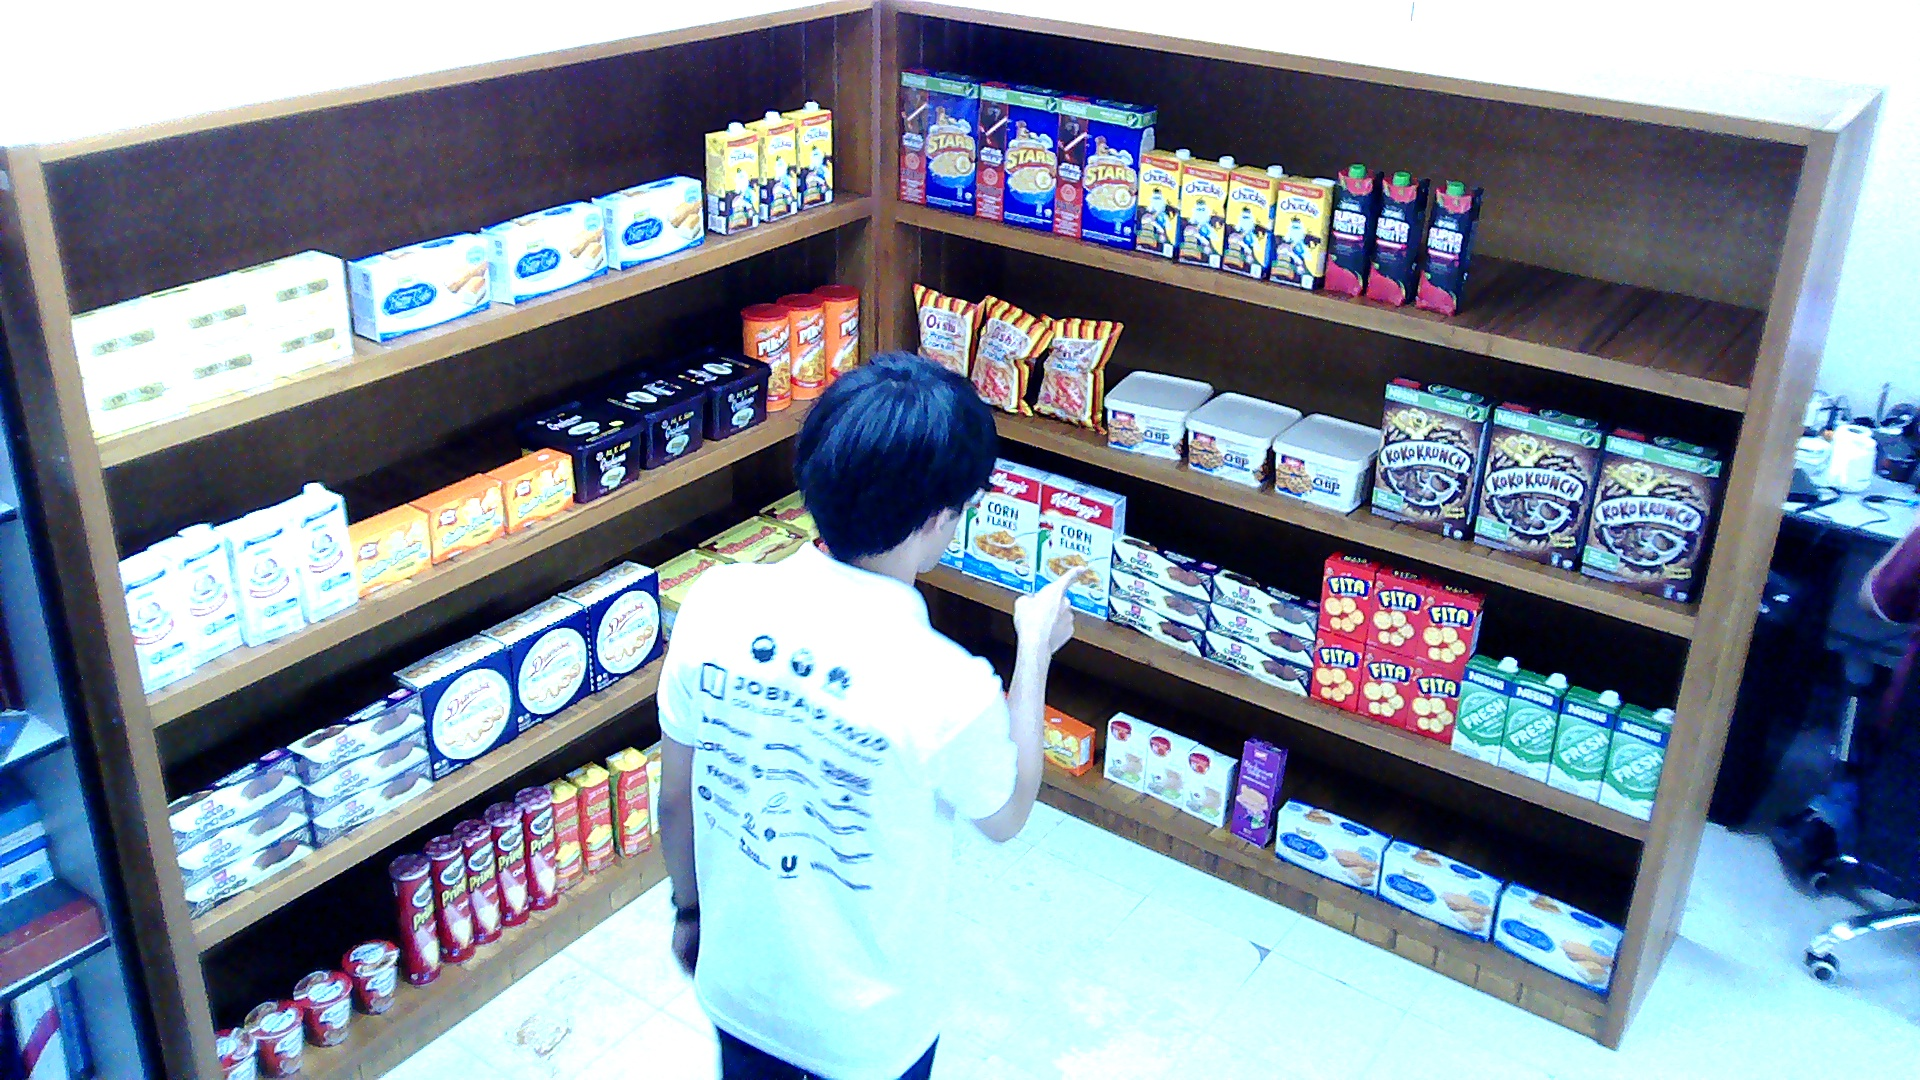Bear brand: (146, 522, 239, 666), (213, 506, 303, 648), (273, 481, 357, 623), (117, 549, 192, 695)
Buttercake: (345, 232, 489, 342), (1491, 879, 1623, 994), (480, 198, 606, 306), (1377, 837, 1503, 940), (1274, 798, 1391, 895), (591, 171, 702, 270)
Butterlicious: (408, 471, 504, 565), (483, 445, 573, 533), (348, 502, 429, 596), (1041, 702, 1095, 774)
Camomille: (147, 272, 267, 355), (69, 295, 180, 383), (231, 248, 345, 324), (84, 359, 186, 438), (180, 331, 276, 405), (270, 306, 351, 376)
Choco Crunchies: (165, 747, 300, 855), (285, 686, 423, 785), (183, 819, 315, 918), (176, 787, 305, 886), (300, 727, 429, 815), (312, 754, 432, 848), (1109, 533, 1220, 601), (1212, 567, 1317, 637), (1203, 630, 1311, 695), (1206, 602, 1314, 665), (1107, 569, 1209, 628), (1107, 593, 1203, 654)
Chocolate Chips: (1184, 389, 1301, 486), (1272, 414, 1377, 513), (1103, 369, 1214, 459)
Chuckie: (1269, 173, 1335, 290), (1221, 164, 1287, 279), (1173, 154, 1239, 267), (1134, 149, 1191, 259), (744, 110, 798, 223), (705, 121, 756, 234), (779, 99, 830, 209)
Danisa: (390, 633, 519, 781), (479, 594, 590, 731), (558, 558, 663, 693)
Fita: (1413, 578, 1488, 670), (1364, 563, 1433, 655), (1317, 549, 1383, 643), (1353, 643, 1413, 729), (1308, 627, 1365, 713), (1404, 659, 1461, 742)
Fresh Milk: (1596, 702, 1674, 819), (1545, 683, 1623, 800), (1497, 668, 1569, 783), (1449, 655, 1521, 765)
Grahams: (513, 396, 645, 502), (585, 366, 705, 467), (651, 342, 771, 441)
Hansel: (657, 547, 735, 641), (696, 513, 810, 565)
Head: (789, 342, 1008, 574)
Honey Stars: (1050, 90, 1158, 250), (975, 76, 1074, 231), (897, 62, 993, 213)
Kellogg Corn Flakes: (1032, 471, 1125, 619), (960, 454, 1050, 594)
Kimchi Noodles: (243, 998, 303, 1077), (291, 970, 351, 1046), (338, 939, 395, 1015), (213, 1026, 255, 1078)
Koko Krunch: (1578, 421, 1719, 603), (1473, 398, 1611, 569), (1371, 373, 1494, 540)
Locally Mango: (563, 760, 614, 873), (602, 746, 647, 859), (543, 776, 585, 893)
Oishi Prawn: (1029, 310, 1125, 434), (969, 295, 1056, 417), (912, 281, 984, 378)
Pik-nik: (741, 302, 792, 412), (777, 292, 825, 398), (810, 283, 858, 386)
Pringles: (387, 852, 441, 985), (420, 835, 474, 963), (453, 819, 501, 945), (482, 801, 527, 927), (516, 785, 558, 911)
Super Fruits: (1412, 180, 1481, 315), (1362, 170, 1428, 305), (1323, 165, 1383, 295)
Wafer: (1230, 736, 1287, 846)
iHop: (1179, 744, 1239, 827), (1104, 710, 1158, 791), (1143, 726, 1197, 807)
